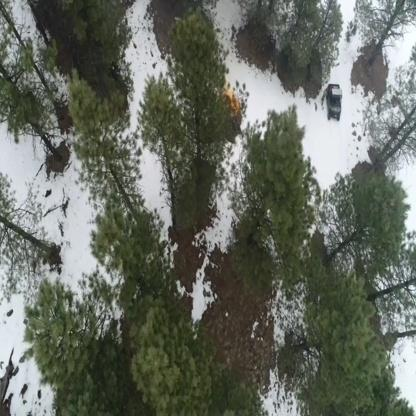Fire: (230, 91, 240, 110)
